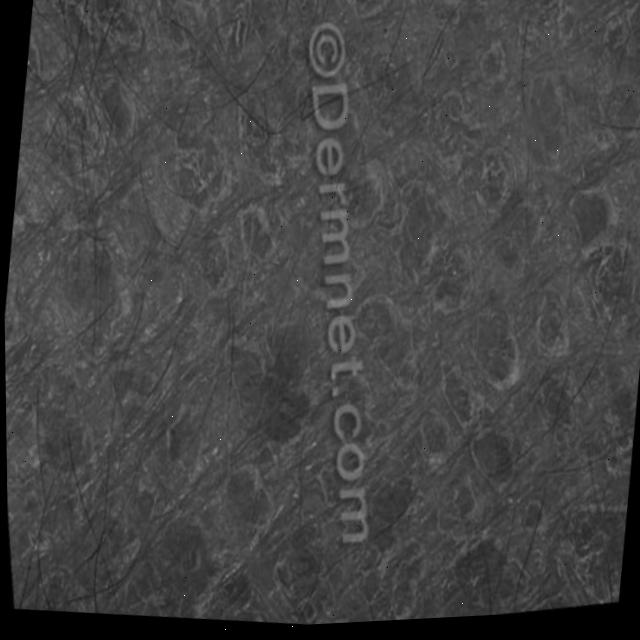Eczema: (48, 0, 640, 638)
